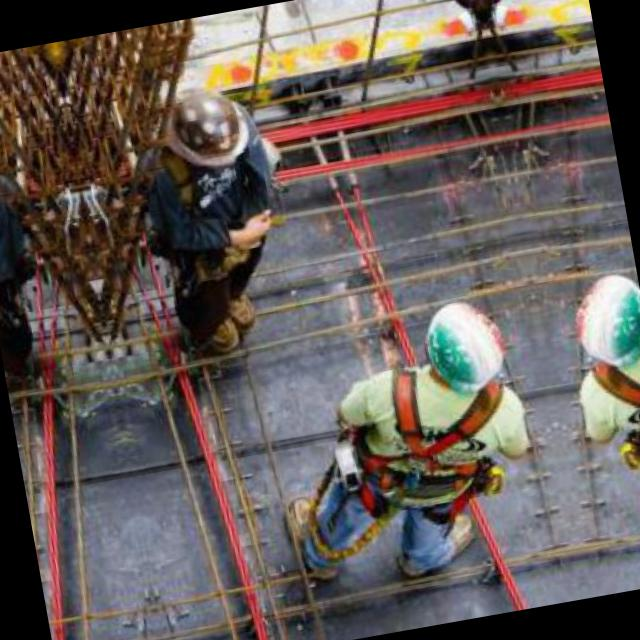helmet: (142, 76, 262, 182), (414, 293, 515, 403), (561, 268, 640, 378)
